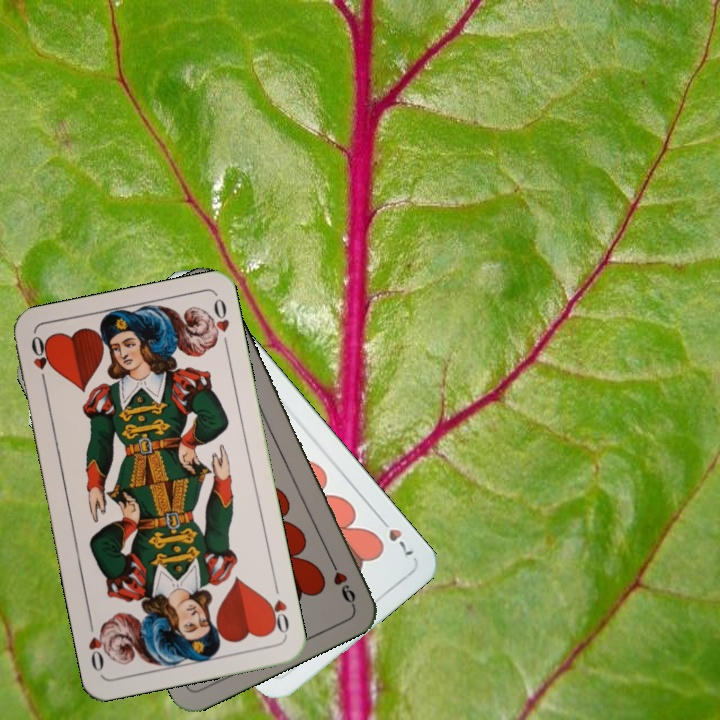H7: (373, 511, 417, 561)
H9: (325, 553, 358, 609)
HO: (262, 579, 292, 638), (27, 331, 53, 390)
